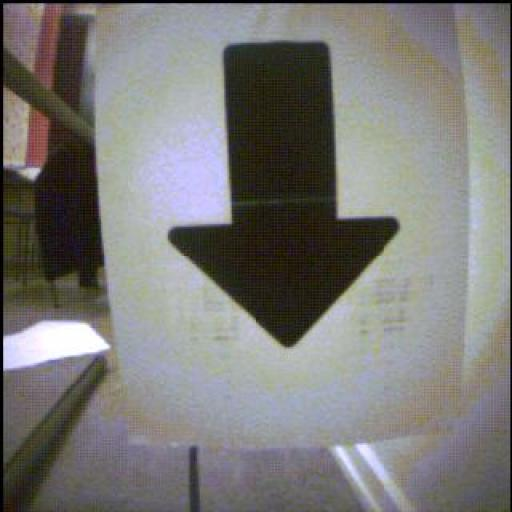Arrow: (171, 43, 400, 348)
